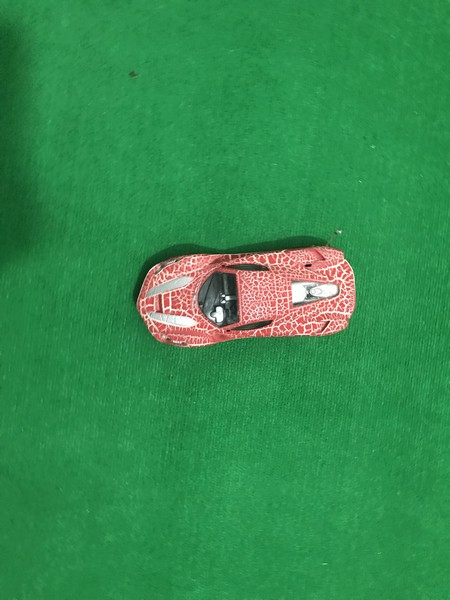RC: (133, 243, 359, 351)
